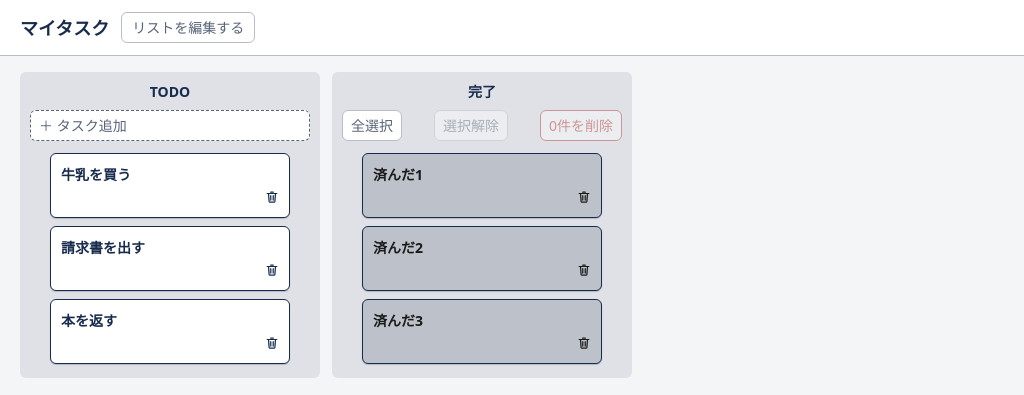
Test: 完了列の選択削除（F-15） › 選んだ件数がラベルに出る
Expected: the heading "牛乳を買う" is shown, [61,165,131,184]
Click the checkbox named "「済んだ1」を選択" at (482, 186), box [342,153,622,218]
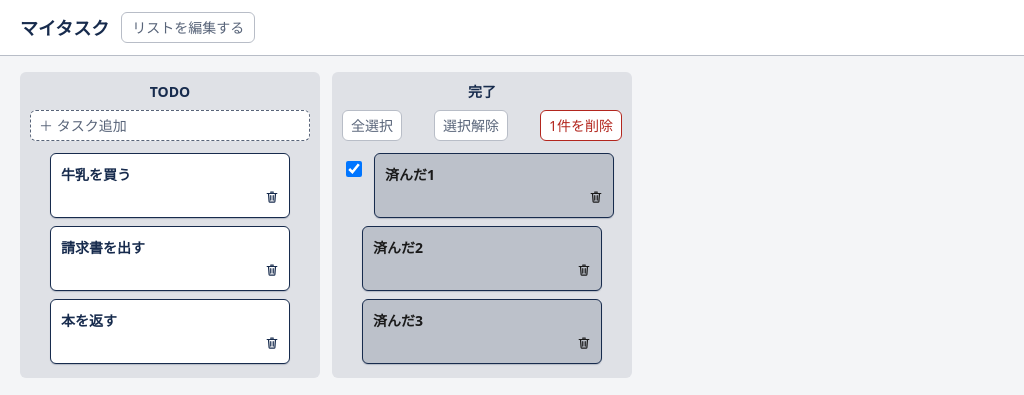
Click the 6th checkbox labelled "済んだ3" at (482, 332), box [342,299,622,364]
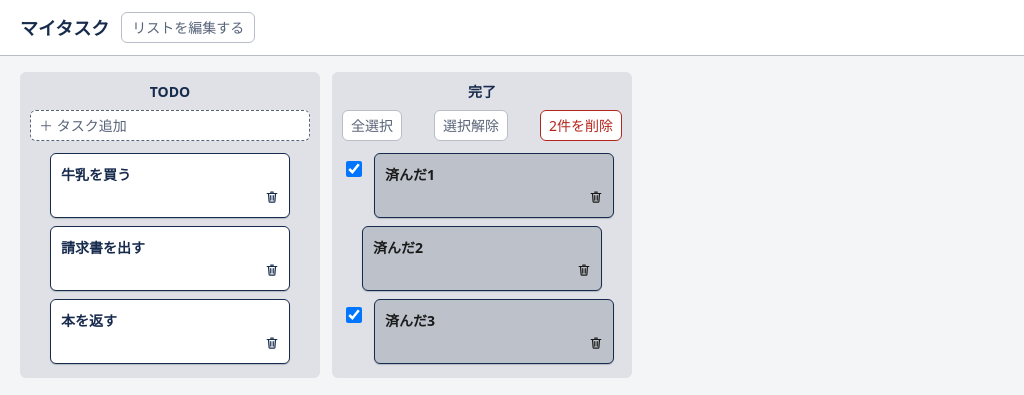
Expected: the button "2件を削除" is shown, [540,110,622,141]
